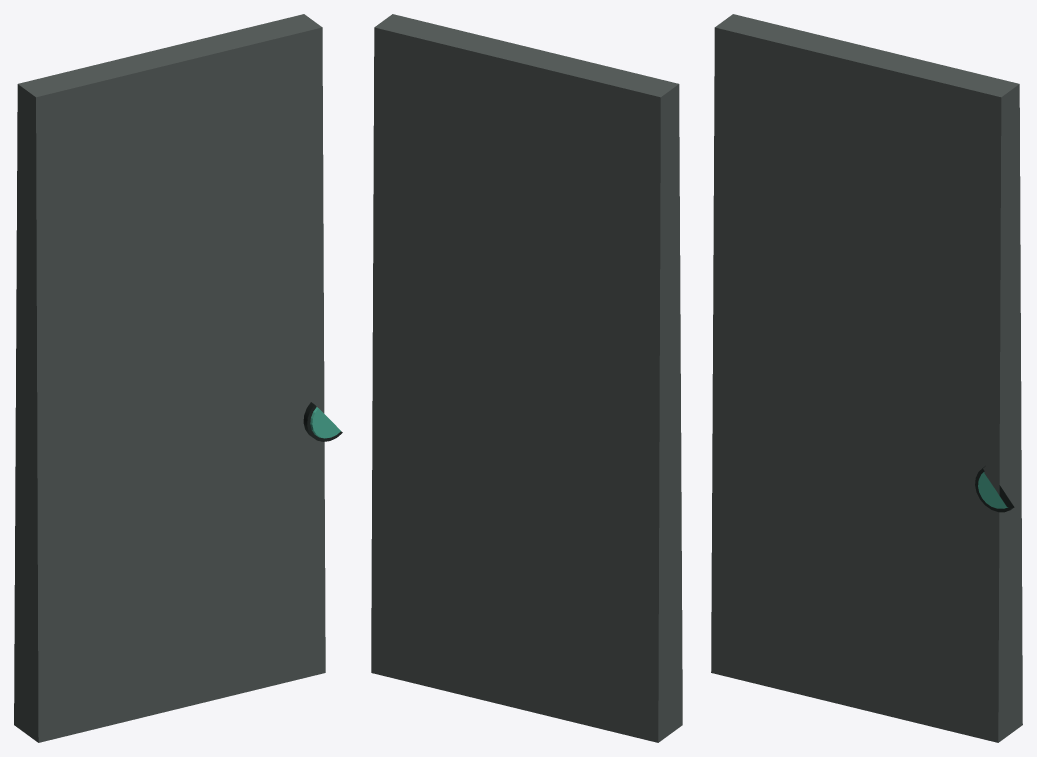
The model's file is LargeDoor_L_SM.fbx.
3 views of the same model, side by side, from view 1: azimuth 30°, elevation 25°; view 2: azimuth 150°, elevation 25°; view 3: azimuth 330°, elevation 25° (orthographic).
Visible parts, largest first — view 1: polySurface20, polySurface19; view 2: polySurface20; view 3: polySurface20, polySurface19.
Part boxes in pixels (x1=…): polySurface20: x1=14, y1=14, x2=325, y2=742; polySurface19: x1=303, y1=402, x2=342, y2=441; polySurface20: x1=371, y1=14, x2=682, y2=742; polySurface20: x1=711, y1=14, x2=1022, y2=742; polySurface19: x1=975, y1=466, x2=1014, y2=512.
Bounding box in the file's own units: 12.24 × 24.92 × 1.96.
